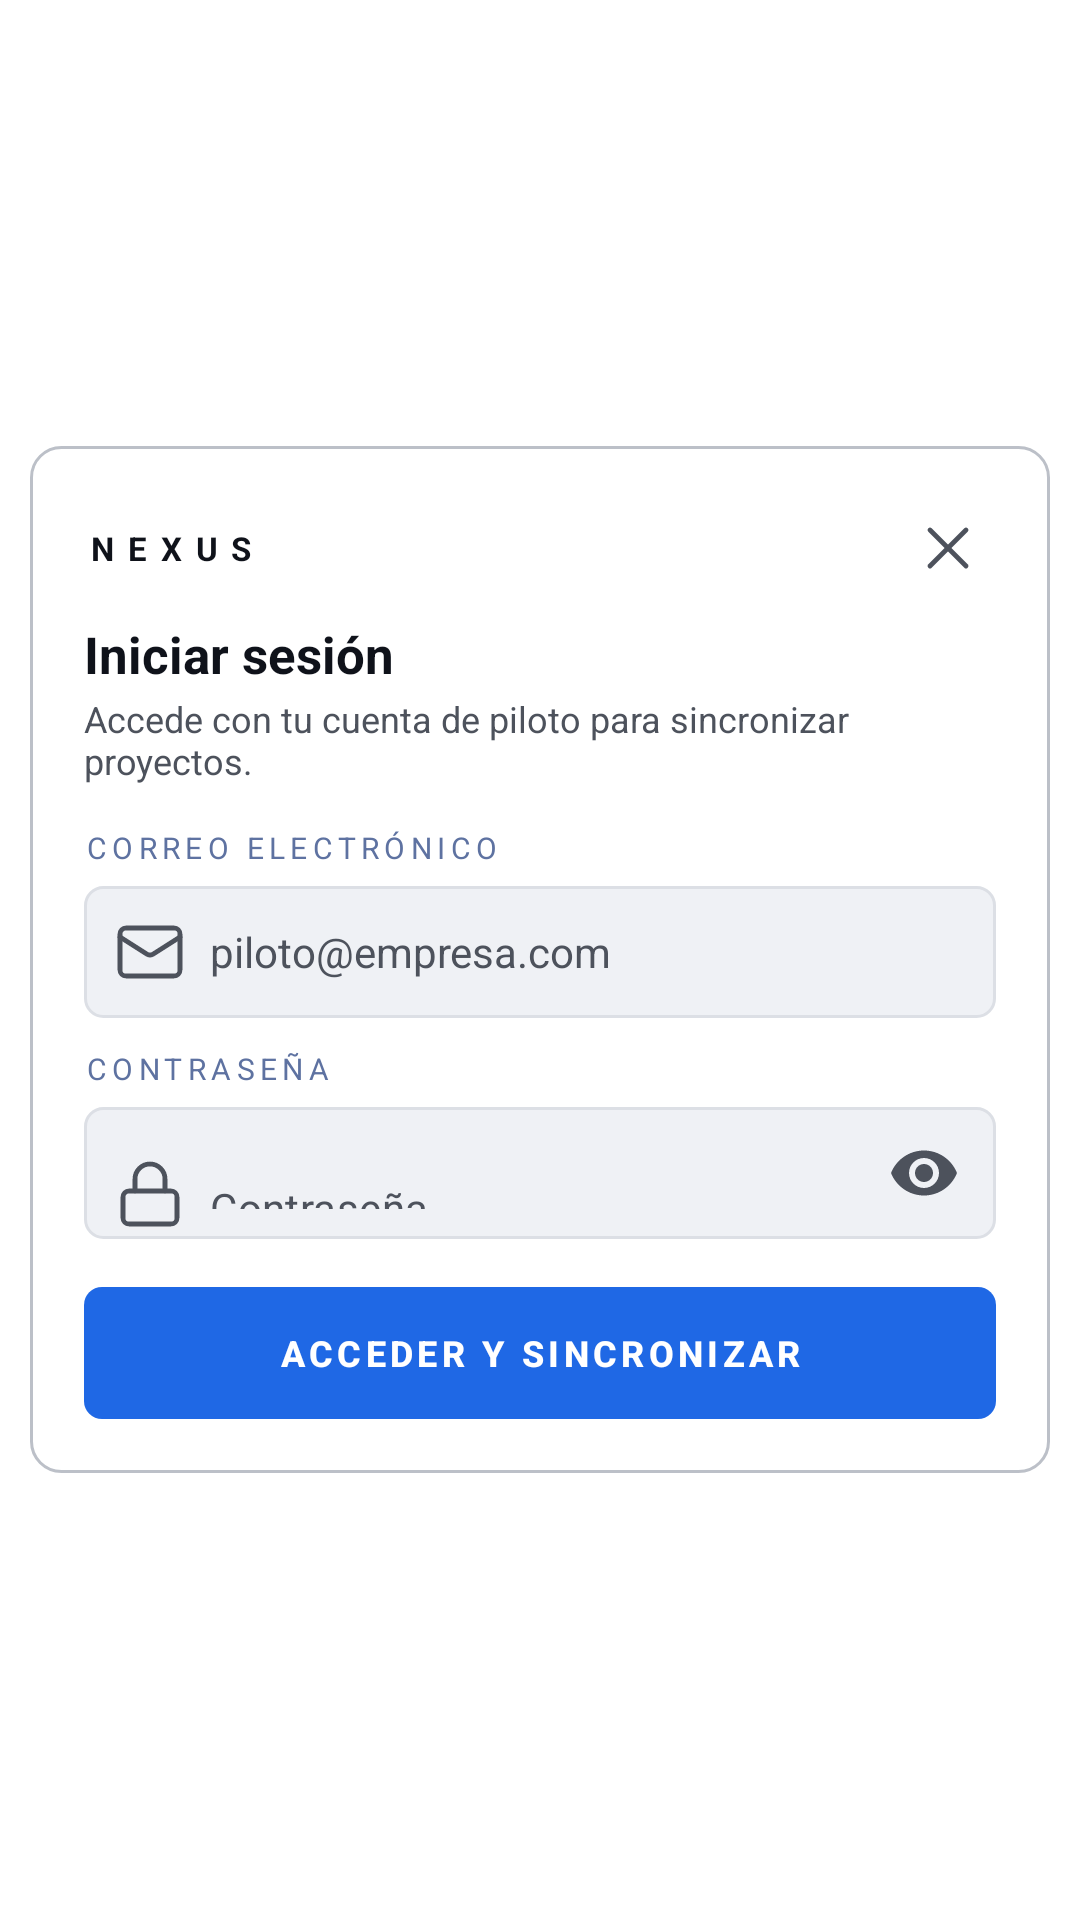

Screen size 1080*1920. Icon name, then its center in pixels as [x,y]:
Cerrar: [948,548]
